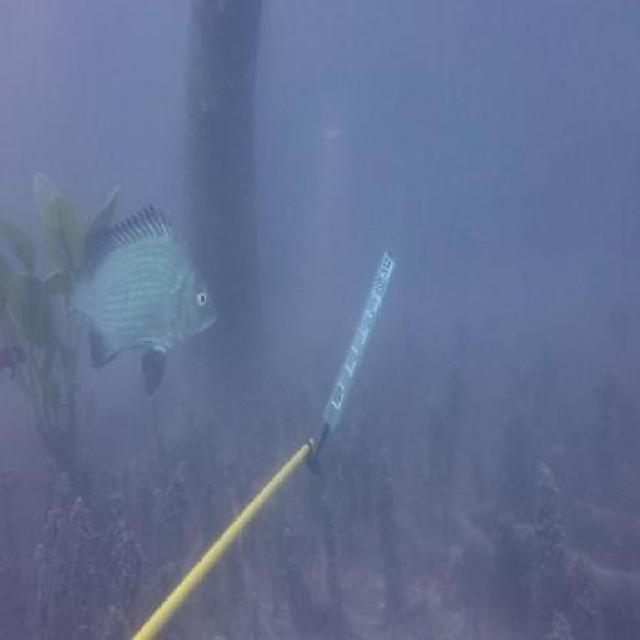acanthopagrus_palmaris: (54, 216, 220, 398)
